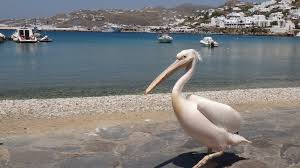pelican: (146, 49, 254, 164)
